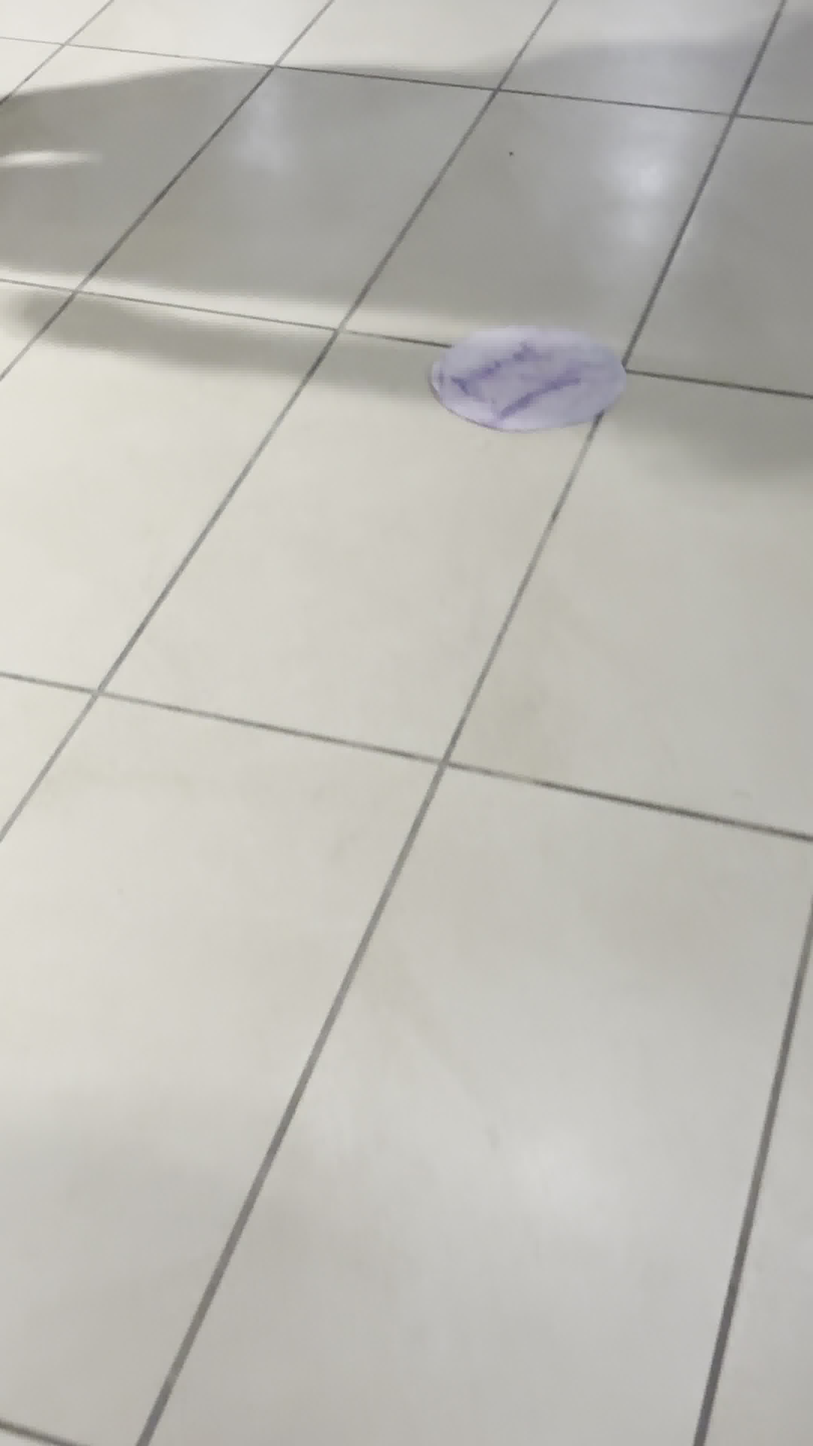Target: (427, 325, 623, 433)
